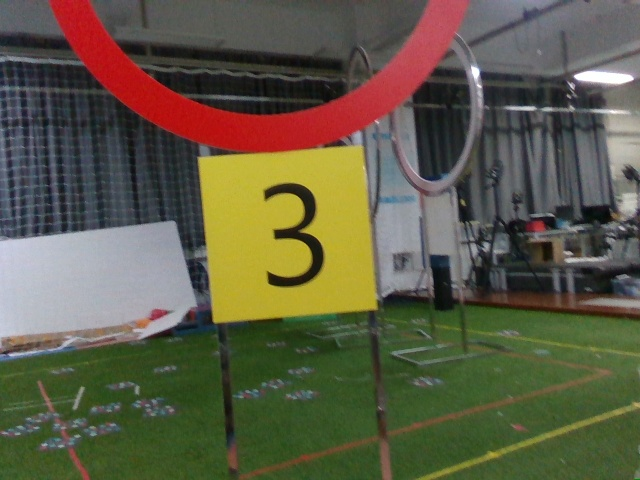target: (205, 154, 372, 314)
